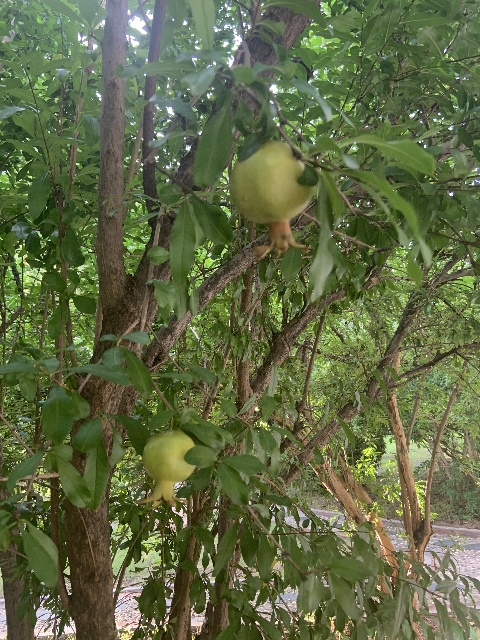mid-growth: (229, 139, 316, 258), (138, 430, 202, 508)
